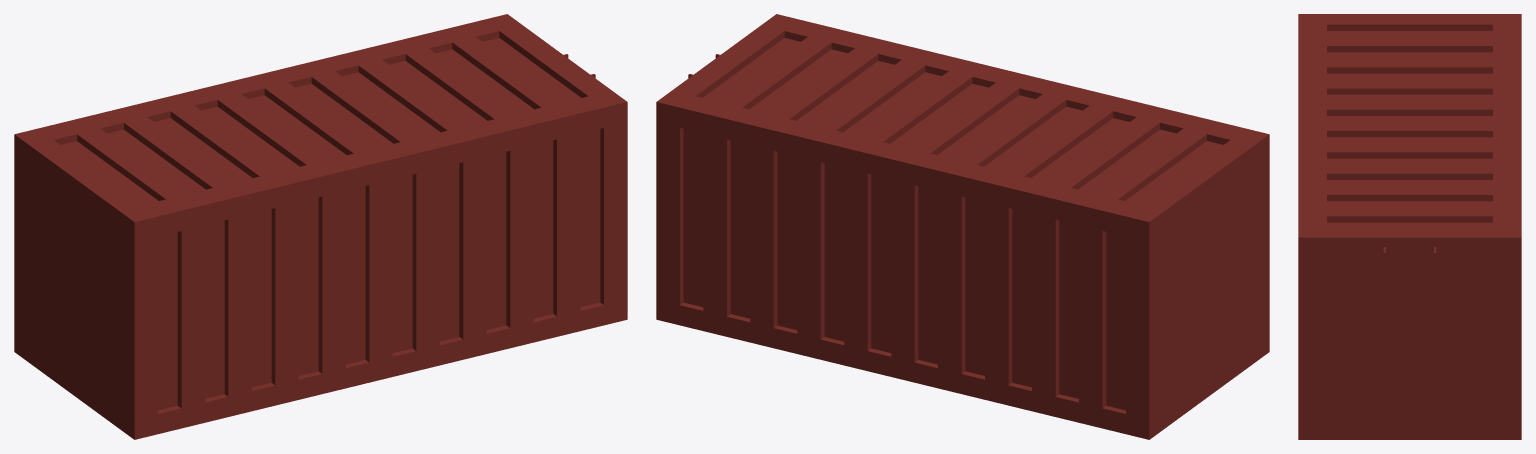
The model's file is container.fbx.
The picture shows the model from 3 angles, left to right: view 1: azimuth 30°, elevation 25°; view 2: azimuth 150°, elevation 25°; view 3: azimuth 270°, elevation 25°; orthographic projection. The views are drawn at different scales.
Visible parts, largest first — view 1: container; view 2: container; view 3: container.
Boxes of the visible parts, x1,y1,x2,y2 form: container: (14, 14, 627, 439); container: (656, 14, 1269, 439); container: (1298, 14, 1521, 439).
Bounding box in the file's own units: 2411 × 990 × 990.
